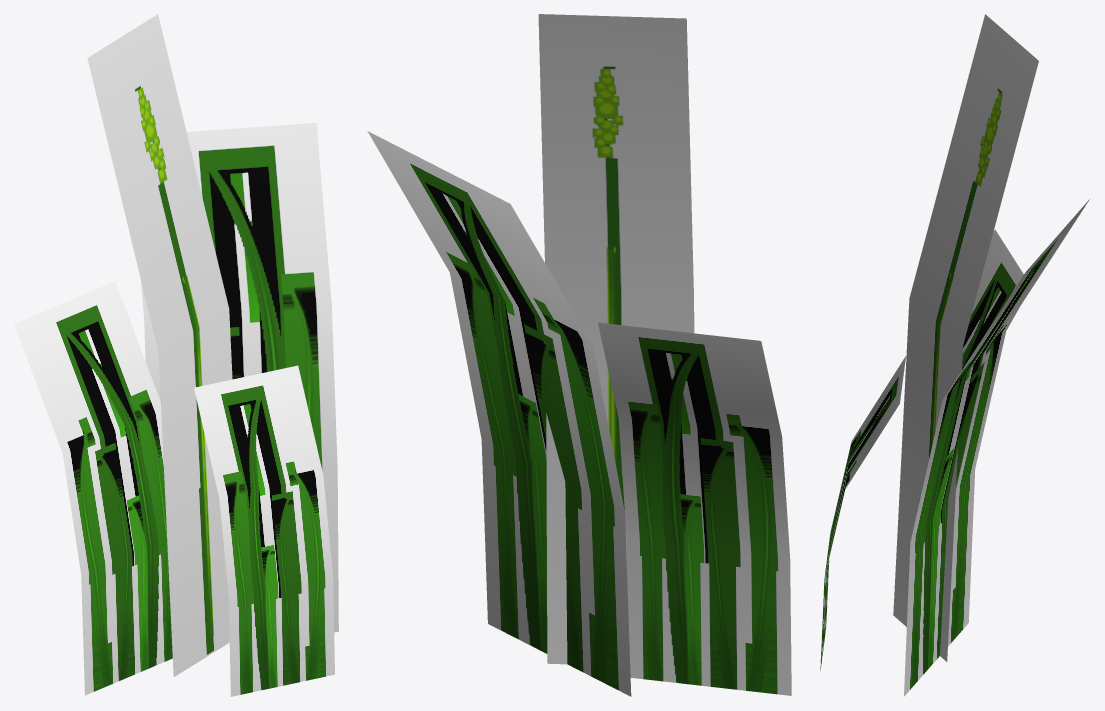
File: Grass_05a.FBX
3 views of the same model, side by side, from view 1: azimuth 30°, elevation 25°; view 2: azimuth 150°, elevation 25°; view 3: azimuth 270°, elevation 25° (orthographic). The views are drawn at different scales.
Visible parts, largest first — view 1: Grass_05a; view 2: Grass_05a; view 3: Grass_05a.
Boxes of the visible parts, left/top/right/bottom form: Grass_05a: left=14, top=14, right=338, bottom=696; Grass_05a: left=367, top=14, right=791, bottom=696; Grass_05a: left=820, top=14, right=1089, bottom=696.
Size of the model in its own units: 12.86 by 22.97 by 9.67.
1 material, 1 textured.
